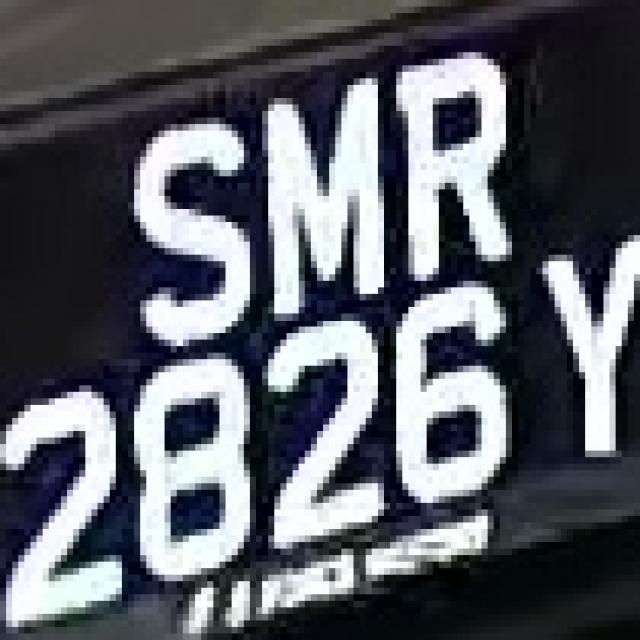2: (250, 326, 408, 548), (0, 3, 1, 6)
6: (378, 262, 506, 522)
8: (122, 366, 274, 588)
M: (250, 85, 402, 326)
R: (372, 39, 518, 294)
S: (110, 118, 280, 359)
Y: (5, 2, 6, 5)
